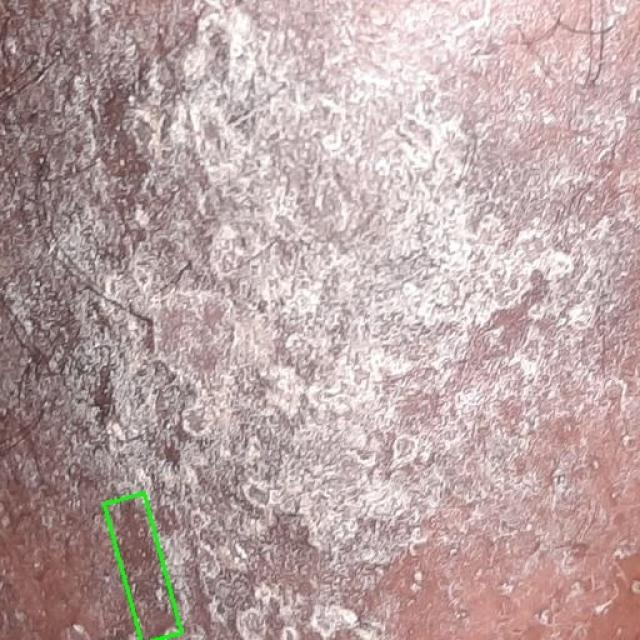Tinea Corporis: (104, 493, 181, 640)
